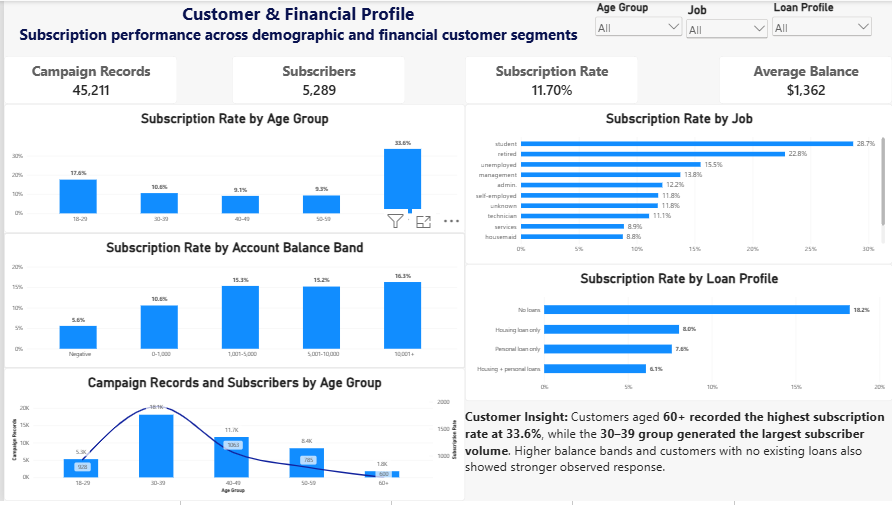

This screenshot's page, from the dashboard's own definition file:
{"tool":"powerbi","page":{"name":"02 Customer & Financial Profile","canvas":[1920,1080],"ordinal":1},"visuals":[{"type":"textbox","box":[0,0,1271.6,119.6],"z":0},{"type":"slicer","fields":{"Values":["Campaign_Data.age_group"]},"box":[1271.6,0,197.7,87.4],"z":1},{"type":"slicer","fields":{"Values":["Campaign_Data.job"]},"box":[1469.3,2.3,186.3,82.8],"z":2},{"type":"slicer","fields":{"Values":["Campaign_Data.loan_profile"]},"box":[1655.6,0,225.3,85.1],"z":3},{"type":"cardVisual","fields":{"Data":["_Measures.Campaign Records"]},"box":[0,119.6,374.8,103.5],"z":4},{"type":"cardVisual","fields":{"Data":["_Measures.Subscribers"]},"box":[492.1,119.6,374.8,103.5],"z":5},{"type":"cardVisual","fields":{"Data":["_Measures.Subscription Rate"]},"box":[995.6,119.6,374.8,103.5],"z":6},{"type":"cardVisual","fields":{"Data":["_Measures.Average Balance"]},"box":[1545.2,119.6,374.8,103.5],"z":7},{"type":"clusteredColumnChart","title":"Subscription Rate by Age Group","fields":{"Category":["Campaign_Data.age_group"],"Y":["_Measures.Subscription Rate"]},"box":[0,223,995.6,278.2],"z":8},{"type":"clusteredBarChart","title":"Subscription Rate by Job","fields":{"Category":["Campaign_Data.job"],"Y":["_Measures.Subscription Rate"]},"box":[995.8,222.5,924.5,345.6],"z":9},{"type":"clusteredColumnChart","title":"Subscription Rate by Account Balance Band","fields":{"Category":["Campaign_Data.balance_band"],"Y":["_Measures.Subscription Rate"]},"box":[0,501.3,995.6,292],"z":10},{"type":"clusteredBarChart","title":"Subscription Rate by Loan Profile","fields":{"Category":["Campaign_Data.loan_profile"],"Y":["_Measures.Subscription Rate"]},"box":[995.8,568.1,924.5,295.9],"z":11},{"type":"lineClusteredColumnComboChart","title":"Campaign Records and Subscribers by Age Group","fields":{"Category":["Campaign_Data.age_group"],"Y":["_Measures.Campaign Records"],"Y2":["_Measures.Subscribers"]},"box":[0,792.7,995.8,287.3],"z":12},{"type":"textbox","box":[995.8,879.1,924.5,200.9],"z":13}]}

Visuals, with their boxes in screenshot pixels (x1, y1, x2, y2), scaled from the page's 1920x1080 canvas onto the 892x505 screenshot:
textbox: left=0, top=0, right=591, bottom=56
slicer - Campaign_Data.age_group: left=591, top=0, right=683, bottom=41
slicer - Campaign_Data.job: left=683, top=1, right=769, bottom=40
slicer - Campaign_Data.loan_profile: left=769, top=0, right=874, bottom=40
cardVisual - _Measures.Campaign Records: left=0, top=56, right=174, bottom=104
cardVisual - _Measures.Subscribers: left=229, top=56, right=403, bottom=104
cardVisual - _Measures.Subscription Rate: left=463, top=56, right=637, bottom=104
cardVisual - _Measures.Average Balance: left=718, top=56, right=891, bottom=104
"Subscription Rate by Age Group" clusteredColumnChart: left=0, top=104, right=463, bottom=234
"Subscription Rate by Job" clusteredBarChart: left=463, top=104, right=891, bottom=266
"Subscription Rate by Account Balance Band" clusteredColumnChart: left=0, top=234, right=463, bottom=371
"Subscription Rate by Loan Profile" clusteredBarChart: left=463, top=266, right=891, bottom=404
"Campaign Records and Subscribers by Age Group" lineClusteredColumnComboChart: left=0, top=371, right=463, bottom=504
textbox: left=463, top=411, right=891, bottom=504
